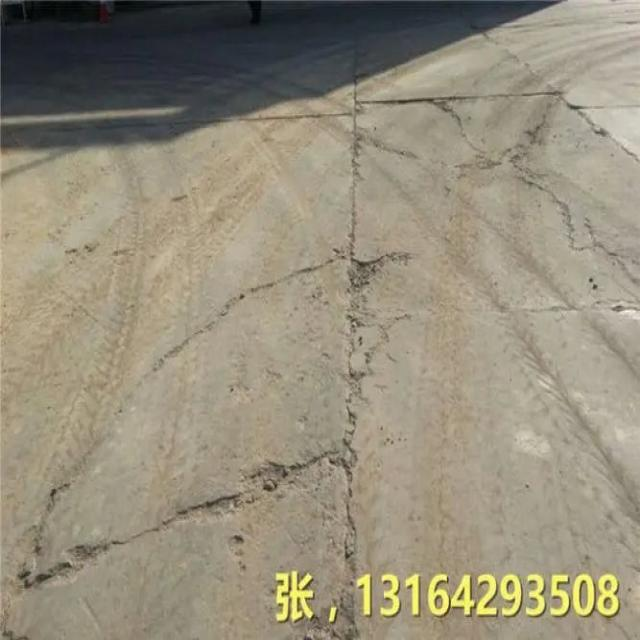Pothole: (15, 454, 328, 584), (346, 107, 412, 638), (449, 125, 552, 198)
